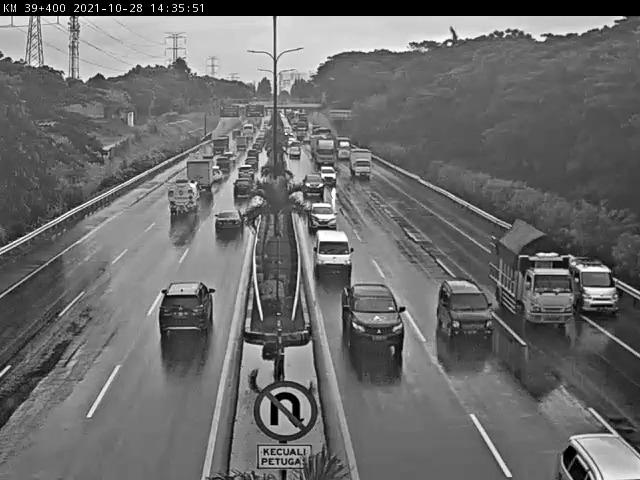big truck: (309, 137, 341, 170)
car: (338, 265, 407, 352), (431, 266, 504, 346), (549, 418, 640, 480), (146, 275, 218, 352), (572, 251, 624, 319), (309, 230, 359, 276), (208, 203, 251, 245), (214, 182, 260, 210), (300, 203, 342, 231), (301, 172, 326, 199), (231, 170, 266, 188), (313, 157, 333, 179), (287, 145, 303, 161)
small truck: (495, 228, 587, 325), (158, 175, 202, 222), (178, 160, 214, 200), (347, 146, 373, 185), (335, 137, 352, 161)
